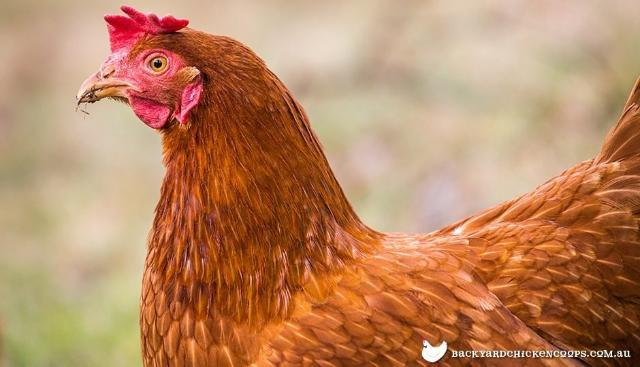Chicken: (77, 4, 640, 367)
